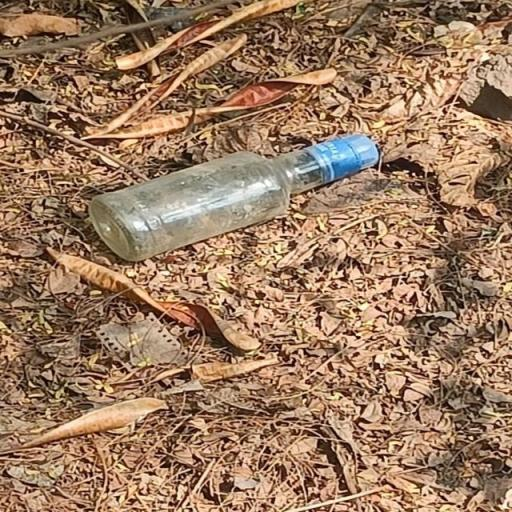glass: (82, 127, 384, 270)
